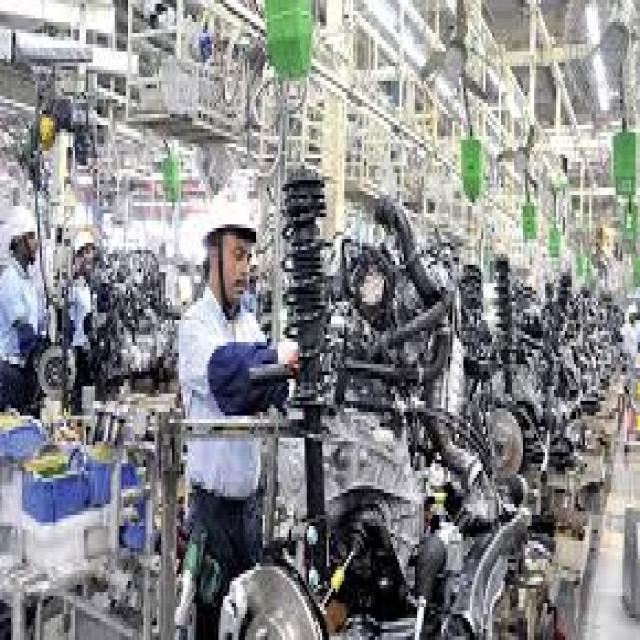Safety-Helmet: (194, 162, 274, 254), (0, 198, 42, 258), (64, 214, 106, 268), (33, 106, 60, 154)
